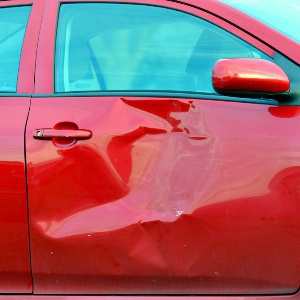door: (12, 108, 284, 276)
